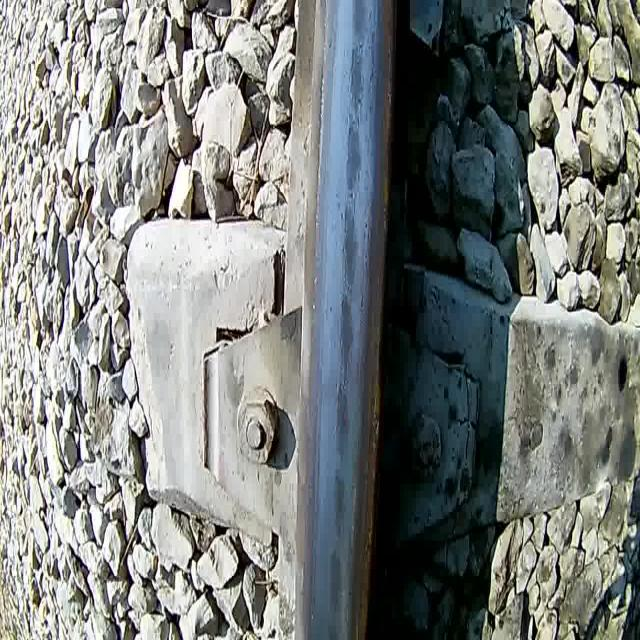Cracks: (341, 187, 359, 242), (340, 256, 353, 314), (366, 24, 376, 89), (337, 358, 349, 407), (348, 41, 354, 106)
Squats: (339, 191, 361, 294), (343, 112, 364, 194), (345, 43, 368, 116), (337, 292, 356, 378), (325, 545, 348, 616), (334, 375, 350, 469), (330, 470, 348, 544), (350, 0, 372, 49), (323, 618, 344, 640)
